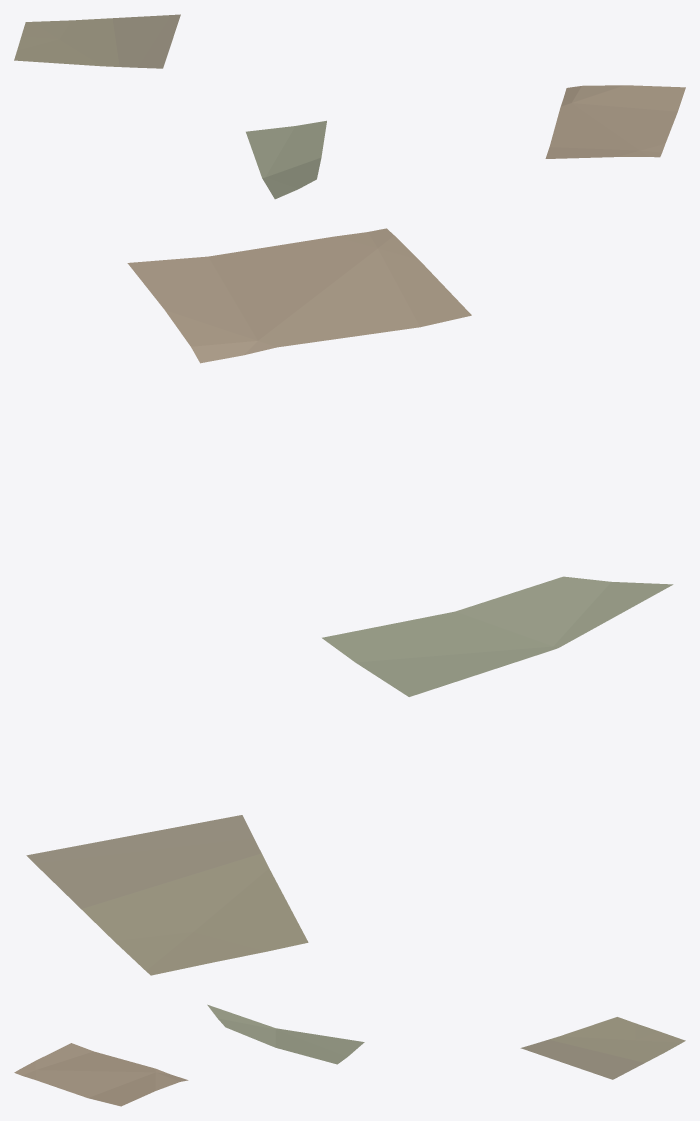
Rendered from farm_4_1_soil.glb.
3 views of the same model, one above another, from view 1: azimuth 30°, elevation 25°; view 2: azimuth 150°, elevation 25°; view 3: azimuth 270°, elevation 25° (orthographic). The views are drawn at different scales.
Visible parts, largest first — view 1: geometry_0; view 2: geometry_0; view 3: geometry_0.
Boxes of the visible parts, left/top/right/bottom form: geometry_0: left=14, top=14, right=685, bottom=199; geometry_0: left=26, top=228, right=673, bottom=975; geometry_0: left=14, top=1004, right=685, bottom=1106.
Bounding box in the file's own units: 261 × 57.29 × 448.
